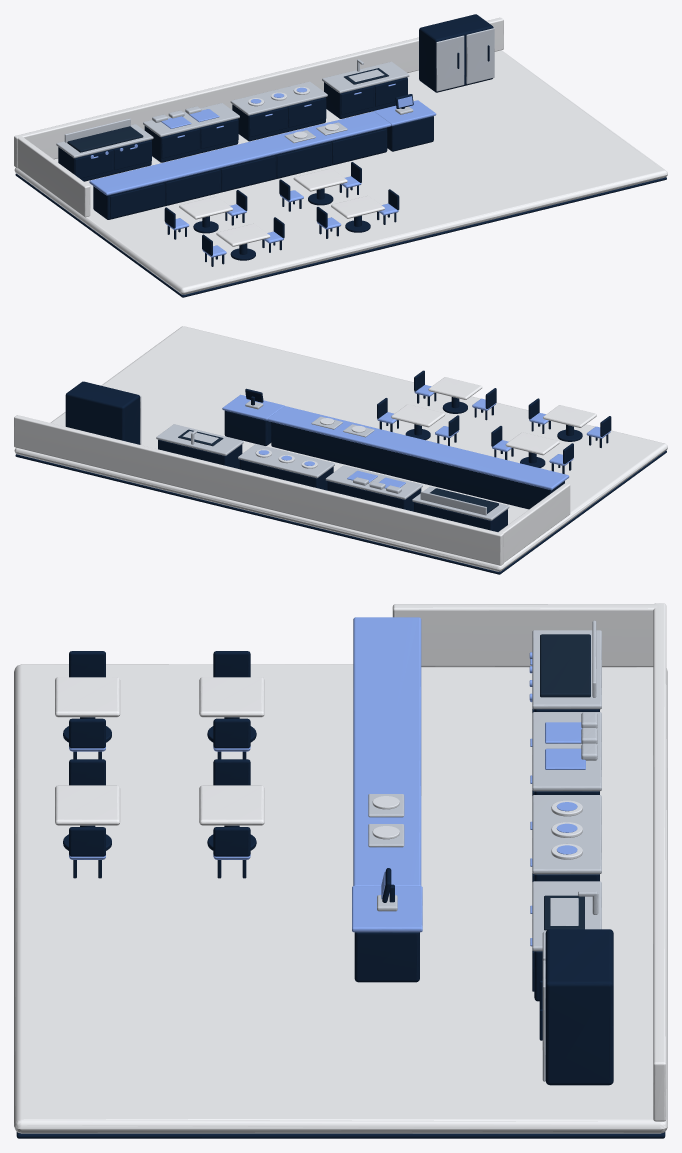
The model's file is restaurante.glb.
The picture shows the model from 3 angles, top to bottom: view 1: azimuth 30°, elevation 25°; view 2: azimuth 150°, elevation 25°; view 3: azimuth 270°, elevation 25°; orthographic projection. The views are drawn at different scales.
Parts seen in each view (by area): view 1: suelo, pared-trasera, barra-entrega-cubierta, pared-lateral, refrigerador, canto-base, barra-entrega-cuerpo, refrigerador-puerta, refrigerador-puerta.001, emplatado-cubierta, barra-panel-4, barra-panel-1 (+26 smaller); view 2: suelo, pared-trasera, barra-entrega-cuerpo, barra-entrega-cubierta, refrigerador, pared-lateral, canto-base, emplatado-cubierta, caja-mueble, preparacion-cubierta, lavado-cubierta, plancha-cuerpo (+11 smaller); view 3: suelo, barra-entrega-cubierta, pared-lateral, refrigerador, pared-trasera, emplatado-cubierta, canto-base, caja-mueble, preparacion-cubierta, plancha-superficie, caja-cubierta, mesa-tablero-2 (+16 smaller).
Boxes of the visible parts, x1=… form: suelo: x1=14, y1=50, x2=667, y2=294; pared-trasera: x1=14, y1=17, x2=503, y2=168; barra-entrega-cubierta: x1=89, y1=111, x2=390, y2=195; pared-lateral: x1=17, y1=136, x2=90, y2=217; refrigerador: x1=419, y1=14, x2=493, y2=92; canto-base: x1=15, y1=173, x2=666, y2=297; barra-entrega-cuerpo: x1=93, y1=127, x2=387, y2=219; refrigerador-puerta: x1=436, y1=35, x2=464, y2=91; refrigerador-puerta.001: x1=466, y1=28, x2=494, y2=84; emplatado-cubierta: x1=230, y1=81, x2=327, y2=115; barra-panel-4: x1=332, y1=129, x2=386, y2=164; barra-panel-1: x1=165, y1=170, x2=219, y2=204; suelo: x1=14, y1=326, x2=667, y2=571; pared-trasera: x1=14, y1=415, x2=503, y2=565; barra-entrega-cuerpo: x1=271, y1=422, x2=564, y2=509; barra-entrega-cubierta: x1=267, y1=406, x2=569, y2=490; refrigerador: x1=65, y1=381, x2=139, y2=444; pared-lateral: x1=498, y1=483, x2=570, y2=562; canto-base: x1=15, y1=450, x2=666, y2=574; emplatado-cubierta: x1=238, y1=444, x2=334, y2=478; caja-mueble: x1=224, y1=410, x2=271, y2=445; preparacion-cubierta: x1=325, y1=465, x2=422, y2=499; lavado-cubierta: x1=156, y1=424, x2=243, y2=455; plancha-cuerpo: x1=414, y1=502, x2=507, y2=531; suelo: x1=14, y1=664, x2=667, y2=1133; barra-entrega-cubierta: x1=353, y1=617, x2=421, y2=885; pared-lateral: x1=392, y1=604, x2=657, y2=667; refrigerador: x1=545, y1=929, x2=613, y2=1085; pared-trasera: x1=653, y1=603, x2=666, y2=1121; emplatado-cubierta: x1=532, y1=795, x2=601, y2=874; canto-base: x1=16, y1=1132, x2=665, y2=1138; caja-mueble: x1=354, y1=932, x2=419, y2=982; preparacion-cubierta: x1=532, y1=712, x2=601, y2=791; plancha-superficie: x1=540, y1=634, x2=590, y2=697; caja-cubierta: x1=352, y1=886, x2=422, y2=932; mesa-tablero-2: x1=199, y1=785, x2=264, y2=825.
Size of the model in its own units: 20 by 2.47 by 12.
